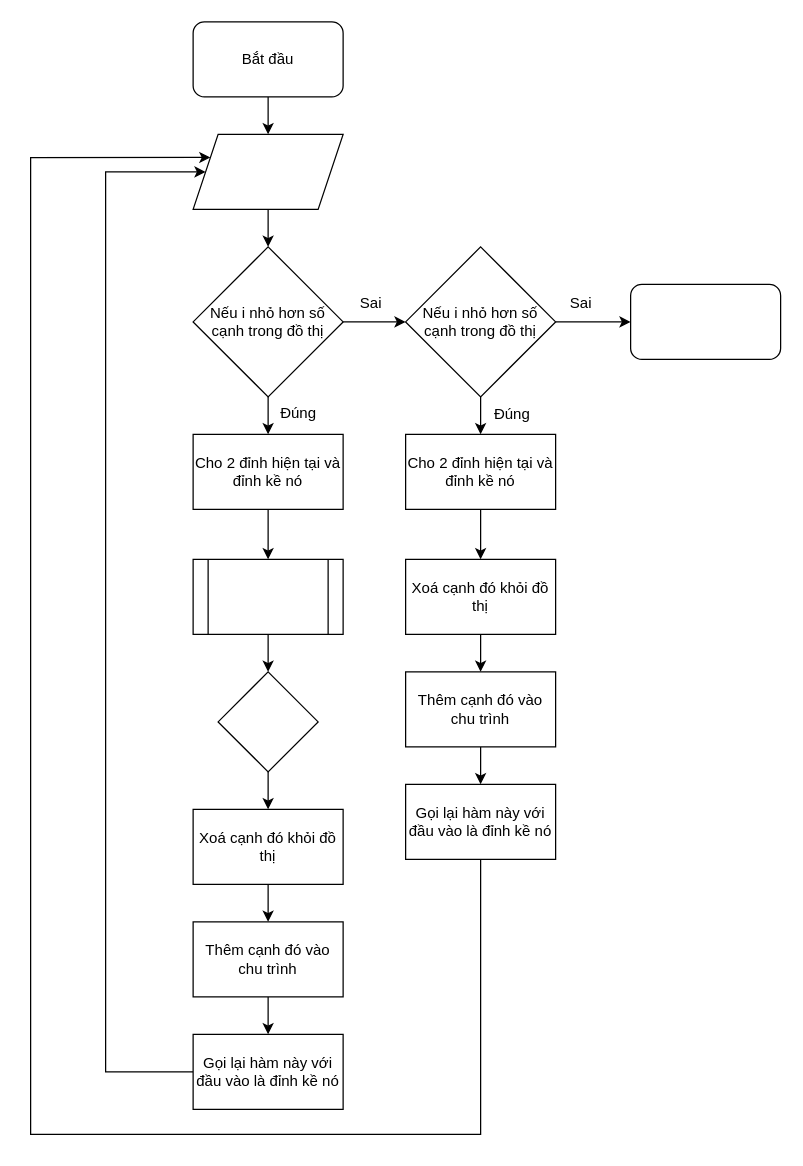
The diagram is 803 pixels wide and 1166 high, and some of its shapes have lost their labels. The centre of each missing label's shape, as x and y in pixels:
"Kiểm tra có cầu" belongs at point 267,596.
"Kết thúc" belongs at point 705,321.
"Nếu trả về false" belongs at point 267,721.
"Đỉnh đầu vào" belongs at point 267,171.
